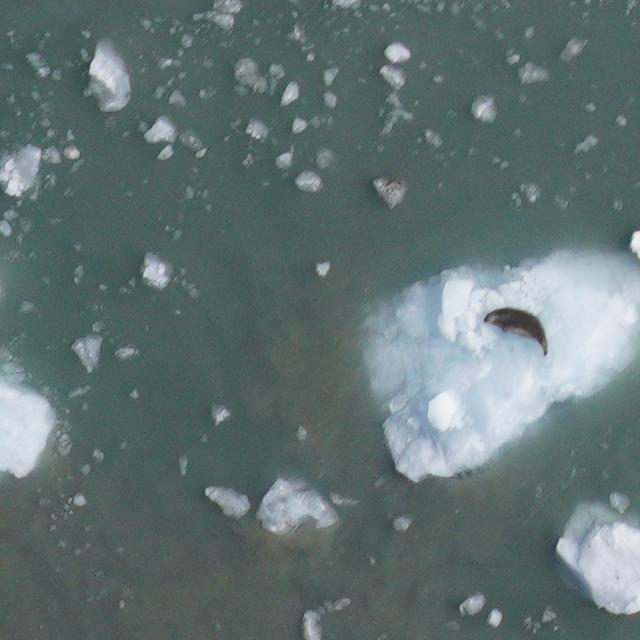seal: (481, 292, 562, 362)
